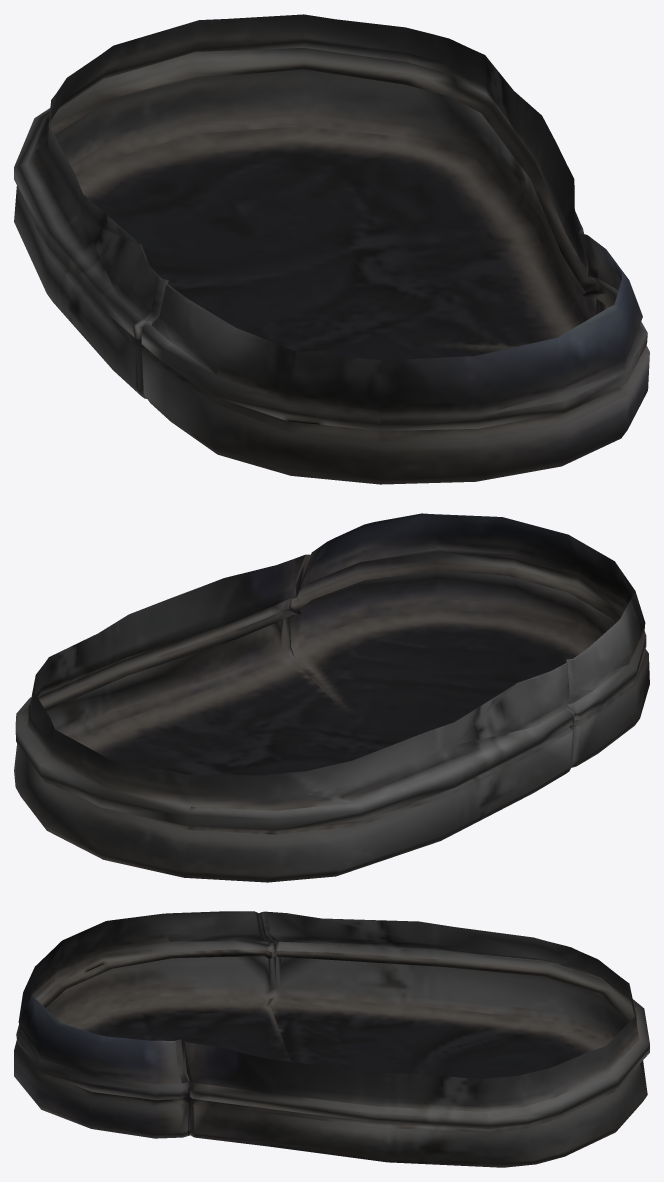
File: RightFoot.glb
3 renders of one model, top to bottom at view 1: azimuth 30°, elevation 25°; view 2: azimuth 150°, elevation 25°; view 3: azimuth 270°, elevation 25°, orthographic. The views are drawn at different scales.
Parts seen in each view (by area): view 1: RightFoot; view 2: RightFoot; view 3: RightFoot.
Part boxes in pixels (<box>): RightFoot: <box>14,14,649,484</box>; RightFoot: <box>14,513,649,882</box>; RightFoot: <box>14,911,649,1167</box>.
Bounding box in the file's own units: 1.25 × 0.3 × 1.86.
Materials: 1 (1 with a texture image).
